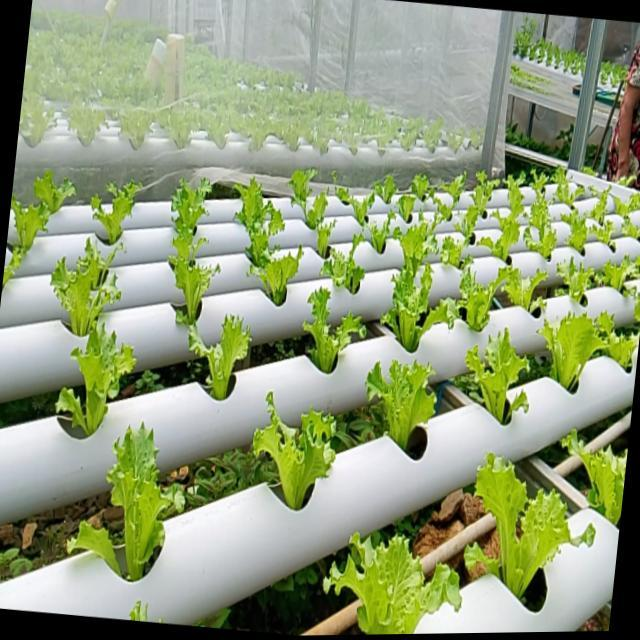Baby: (468, 451, 598, 594), (328, 532, 465, 635), (114, 423, 189, 580), (256, 393, 340, 510), (64, 324, 142, 437), (173, 182, 223, 335), (369, 362, 441, 460), (58, 241, 126, 339), (469, 330, 534, 425), (542, 309, 610, 391), (307, 290, 369, 375), (194, 317, 255, 402), (451, 263, 523, 333), (239, 181, 288, 268), (12, 199, 59, 272), (324, 237, 382, 296), (97, 184, 147, 248), (252, 250, 307, 308), (528, 176, 561, 261), (397, 216, 441, 278), (557, 168, 589, 206), (567, 209, 593, 252), (444, 237, 468, 268), (594, 188, 614, 225), (437, 194, 460, 225)
